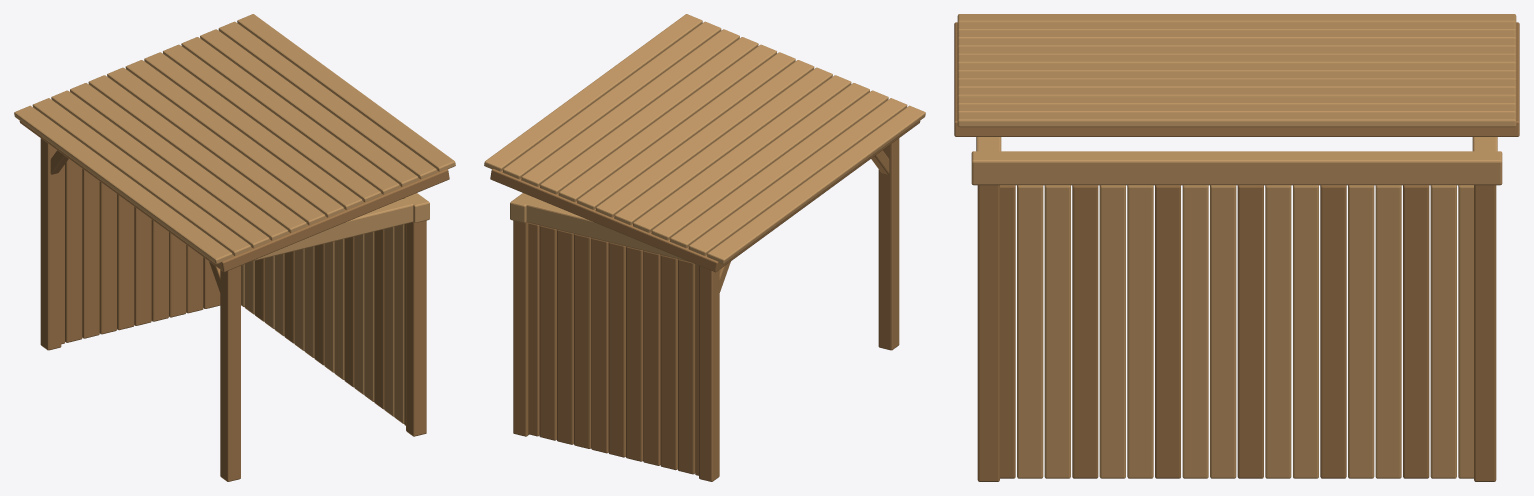
File: SM_PlayerHouse_WorkshopStructure.fbx
3 views of the same model, side by side, from view 1: azimuth 30°, elevation 25°; view 2: azimuth 150°, elevation 25°; view 3: azimuth 270°, elevation 25° (orthographic). The views are drawn at different scales.
Parts seen in each view (by area): view 1: SM_PlayerHouse_WorkshopStructure; view 2: SM_PlayerHouse_WorkshopStructure; view 3: SM_PlayerHouse_WorkshopStructure.
Part boxes in pixels (<box>): SM_PlayerHouse_WorkshopStructure: <box>14,14,455,481</box>; SM_PlayerHouse_WorkshopStructure: <box>484,14,925,481</box>; SM_PlayerHouse_WorkshopStructure: <box>954,14,1519,481</box>.
Size of what is drawn, in the model's own units: 278 by 410 by 302.
